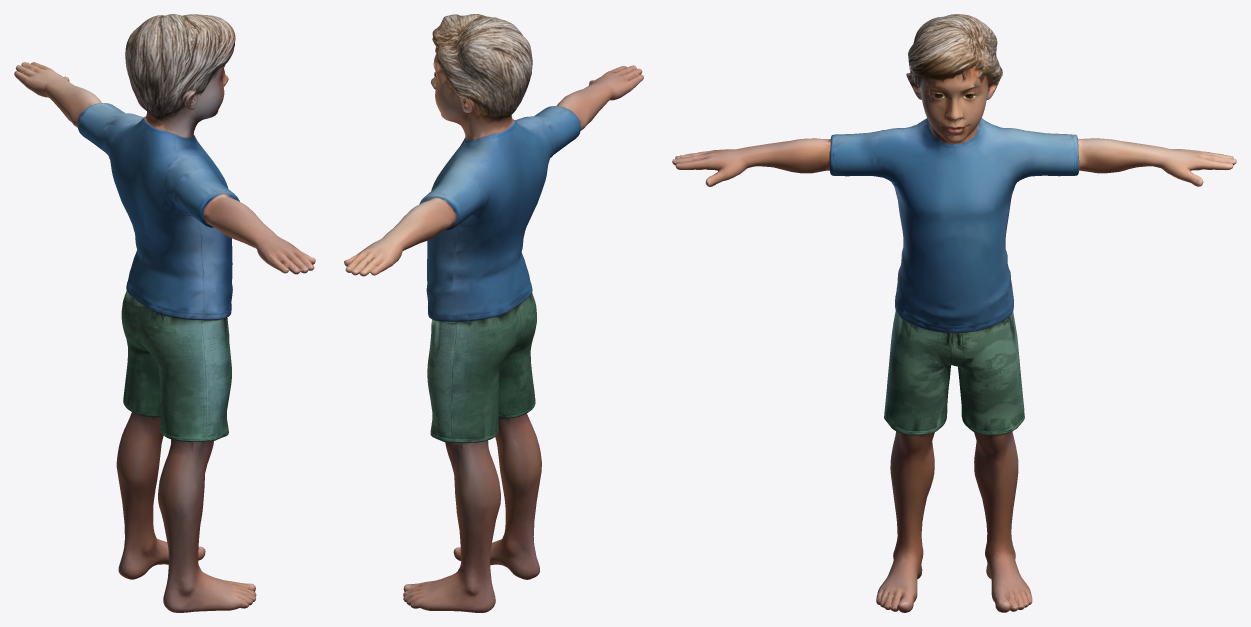
Rendered from theo-4.glb.
3 views of the same model, side by side, from view 1: azimuth 30°, elevation 25°; view 2: azimuth 150°, elevation 25°; view 3: azimuth 270°, elevation 25° (orthographic).
Visible parts, largest first — view 1: theo4; view 2: theo4; view 3: theo4.
Part boxes in pixels (x1,y1,x2,y2): theo4: (14,14,315,612); theo4: (344,14,643,612); theo4: (672,14,1236,612).
Size of the model in its own units: 0.1772 by 0.9793 by 0.8774.
Materials: 1 (1 with a texture image).
